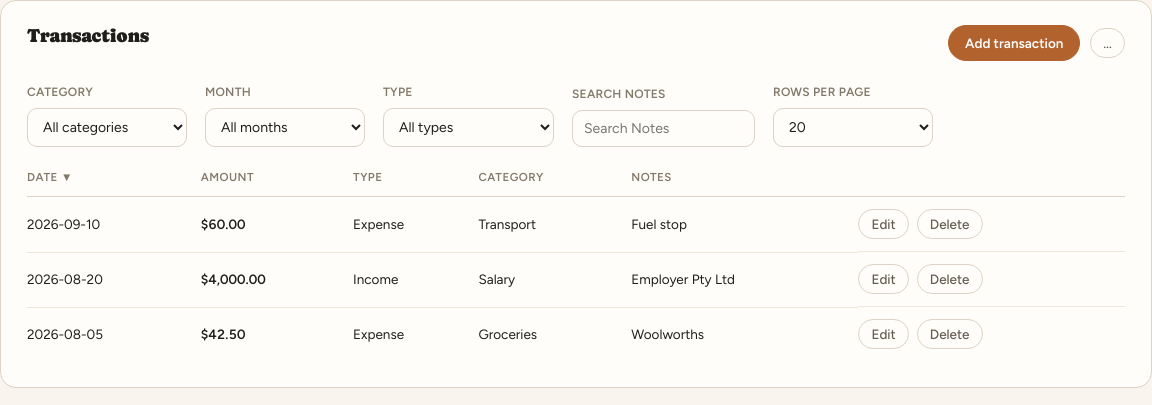
Transactions › filtering, searching, and sorting › shows a distinct message when filters produce zero rows
Type "nonexistent merchant" into the search field labelled "Search Notes".
click(664, 128); type("nonexistent merchant")  # box [572,110,755,147]
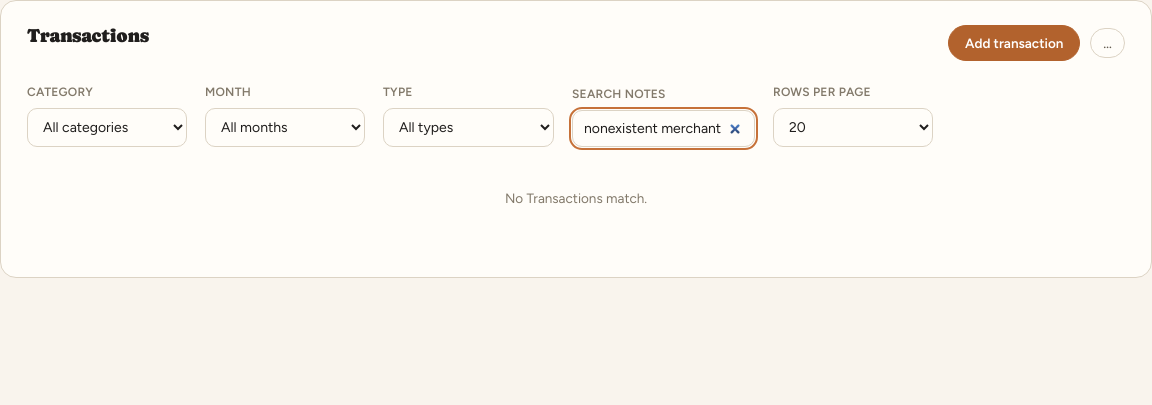
Expected: the text "No Transactions match." is shown, [505,190,647,206]
